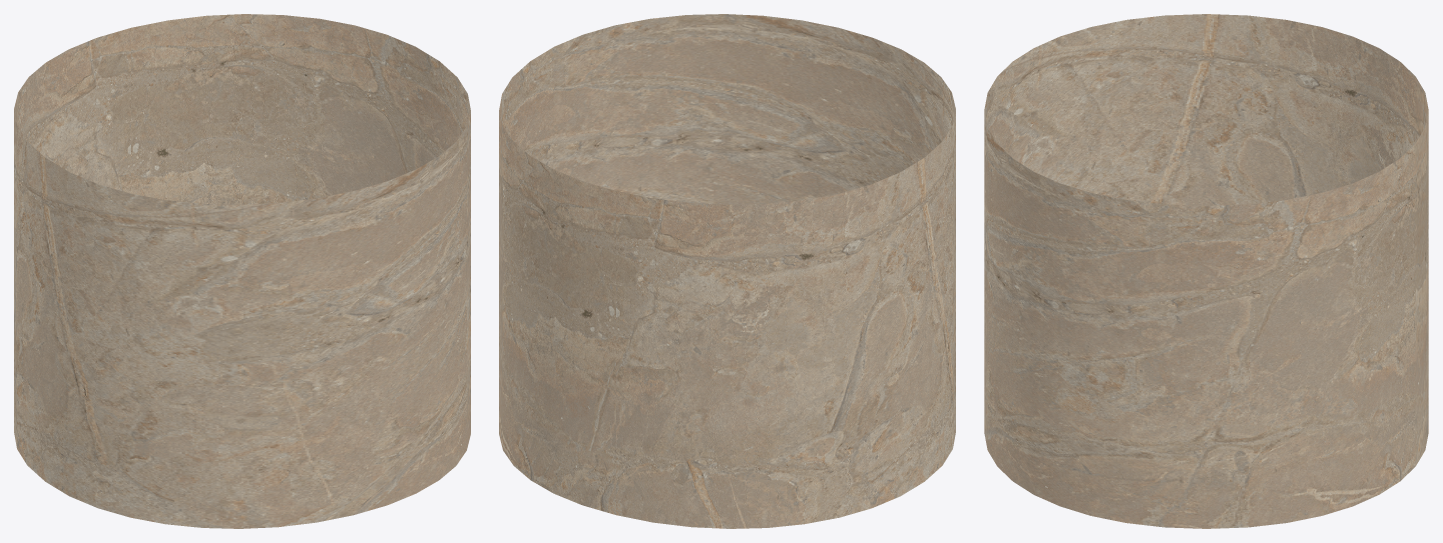
Rendered from tunnel_H3_5.glb.
The picture shows the model from 3 angles, left to right: view 1: azimuth 30°, elevation 25°; view 2: azimuth 150°, elevation 25°; view 3: azimuth 270°, elevation 25°; orthographic projection.
Parts seen in each view (by area): view 1: XSBYSZK_03; view 2: XSBYSZK_03; view 3: XSBYSZK_03.
Boxes of the visible parts, box(x1,y1,x2,y2) form: XSBYSZK_03: box(14, 14, 470, 528); XSBYSZK_03: box(499, 14, 955, 528); XSBYSZK_03: box(984, 14, 1428, 528).
Bounding box in the file's own units: 8.79 × 6.9 × 8.6.
Materials: 1 (1 with a texture image).
